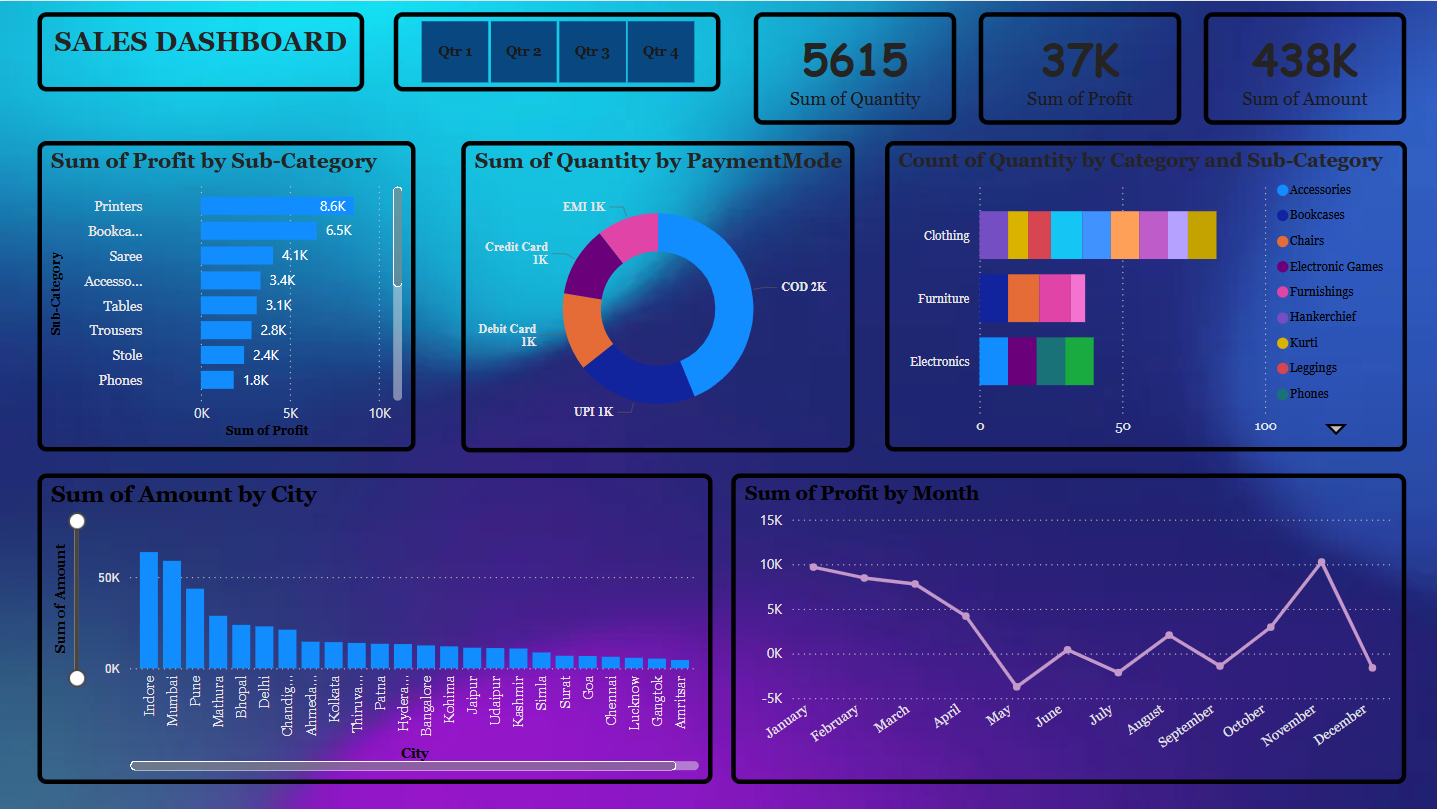

The dashboard page shown, as its layout file describes it:
{"tool":"powerbi","page":{"name":"Page 1","canvas":[1280,720],"ordinal":0},"visuals":[{"type":"textbox","box":[32.9,10,290,70],"z":0},{"type":"slicer","fields":{"Values":["Orders.Order Date.Variation.Date Hierarchy.Quarter"]},"box":[350,10,290,70],"z":1000},{"type":"card","fields":{"Values":["Sum(Details.Quantity)"]},"box":[670,10,180,100],"z":2000},{"type":"card","fields":{"Values":["Sum(Details.Profit)"]},"box":[870,10,180,100],"z":3000},{"type":"card","fields":{"Values":["Sum(Details.Amount)"]},"box":[1070,10,180,100],"z":4000},{"type":"barChart","fields":{"Category":["Details.Sub-Category"],"Y":["Sum(Details.Profit)"]},"box":[32.9,124.9,336.2,275.8],"z":5000},{"type":"donutChart","fields":{"Category":["Details.PaymentMode"],"Y":["Sum(Details.Quantity)"]},"box":[410.3,124.9,349.9,277],"z":6000},{"type":"barChart","fields":{"Category":["Details.Category"],"Series":["Details.Sub-Category"],"Y":["Count(Details.Quantity)"]},"box":[786.3,124.9,463.8,275.8],"z":7000},{"type":"lineChart","fields":{"Y":["Sum(Details.Profit)"],"Category":["Orders.Order Date.Variation.Date Hierarchy.Month"]},"box":[650,420,600,275.7],"z":8000},{"type":"columnChart","fields":{"Y":["Sum(Details.Amount)"],"Category":["Orders.City"]},"box":[32.9,420,600,275.7],"z":9000}]}

Visuals, with their boxes in screenshot pixels (x1, y1, x2, y2), scaled from the page's 1280x720 canvas onto the 1437x809 screenshot:
textbox: x1=37 y1=11 x2=363 y2=90
slicer - Orders.Order Date.Variation.Date Hierarchy.Quarter: x1=393 y1=11 x2=718 y2=90
card - Sum(Details.Quantity): x1=752 y1=11 x2=954 y2=124
card - Sum(Details.Profit): x1=977 y1=11 x2=1179 y2=124
card - Sum(Details.Amount): x1=1201 y1=11 x2=1403 y2=124
barChart - Details.Sub-Category x Sum(Details.Profit): x1=37 y1=140 x2=414 y2=450
donutChart - Details.PaymentMode x Sum(Details.Quantity): x1=461 y1=140 x2=853 y2=452
barChart - Details.Category x Details.Sub-Category: x1=883 y1=140 x2=1403 y2=450
lineChart - Sum(Details.Profit) x Orders.Order Date.Variation.Date Hierarchy.Month: x1=730 y1=472 x2=1403 y2=782
columnChart - Sum(Details.Amount) x Orders.City: x1=37 y1=472 x2=711 y2=782
